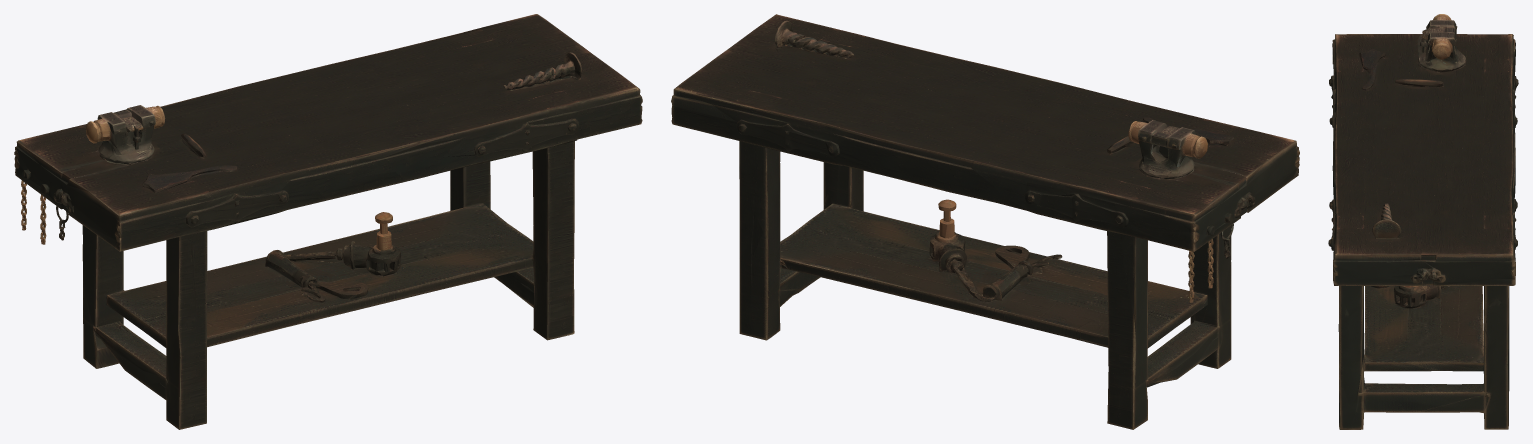
3 renders of one model, left to right at view 1: azimuth 30°, elevation 25°; view 2: azimuth 150°, elevation 25°; view 3: azimuth 270°, elevation 25°, orthographic. The views are drawn at different scales.
Bounding box in the file's own units: 1.9 × 0.9197 × 0.6673.
1 material, 1 textured.
